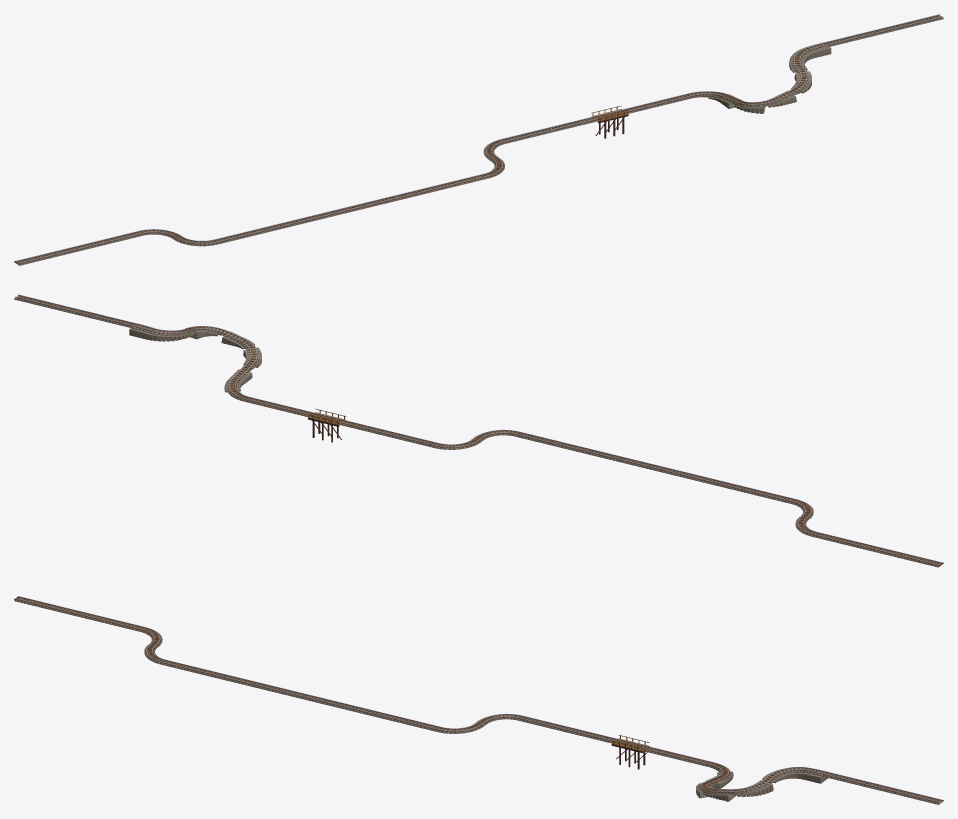
File: track.glb
3 views of the same model, one above another, from view 1: azimuth 30°, elevation 25°; view 2: azimuth 150°, elevation 25°; view 3: azimuth 330°, elevation 25° (orthographic). The views are drawn at different scales.
Parts seen in each view (by area): view 1: ReferenceTrackBridges; view 2: ReferenceTrackBridges; view 3: ReferenceTrackBridges.
Boxes of the visible parts, x1=… form: ReferenceTrackBridges: x1=14, y1=14, x2=943, y2=265; ReferenceTrackBridges: x1=14, y1=294, x2=943, y2=567; ReferenceTrackBridges: x1=14, y1=596, x2=943, y2=804.
Bounding box in the file's own units: 152 × 8.27 × 14.2.
